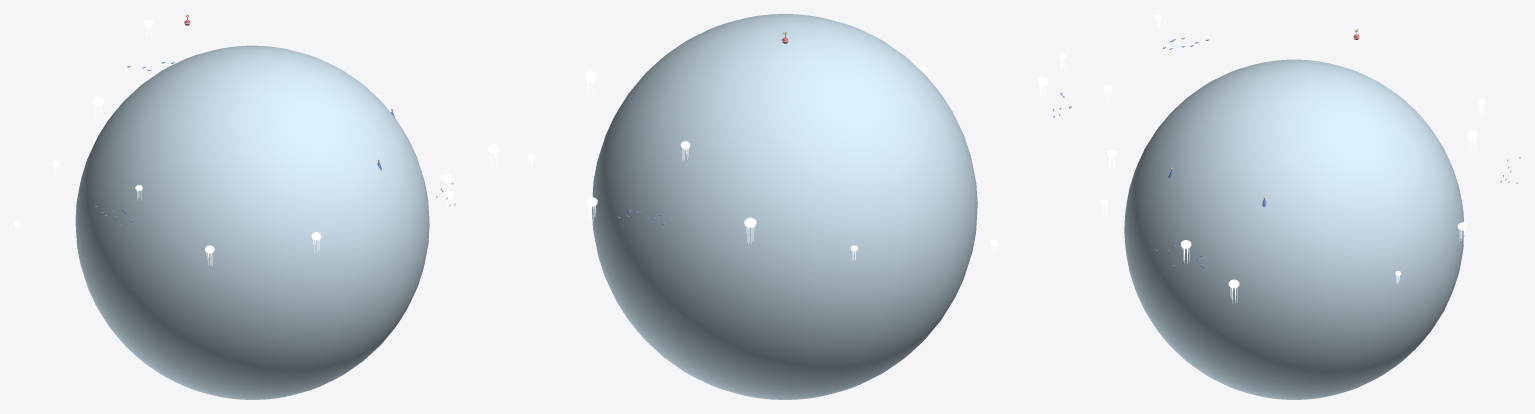
Rendered from Palace.fbx.
3 renders of one model, left to right at view 1: azimuth 30°, elevation 25°; view 2: azimuth 150°, elevation 25°; view 3: azimuth 270°, elevation 25°, orthographic. The views are drawn at different scales.
Parts seen in each view (by area): view 1: Palace_Dome; view 2: Palace_Dome; view 3: Palace_Dome.
Boxes of the visible parts, x1,y1,x2,y2 form: Palace_Dome: (75,45,429,399); Palace_Dome: (592,14,977,399); Palace_Dome: (1124,59,1464,399).
Size of what is drawn, in the model's own units: 101 by 79.19 by 88.88.
